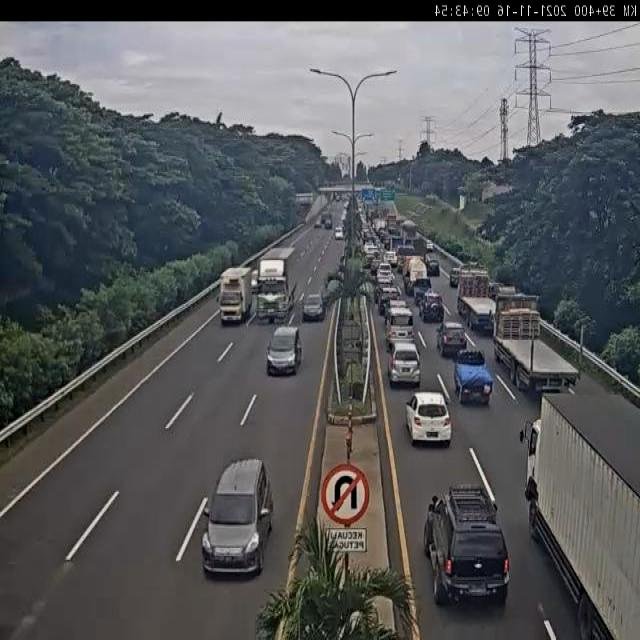Car: (423, 484, 510, 607), (201, 458, 275, 580), (404, 390, 452, 446), (453, 349, 494, 406), (266, 325, 302, 376), (387, 342, 422, 388), (384, 304, 414, 344), (435, 321, 467, 358), (420, 290, 444, 322), (302, 292, 326, 322), (377, 286, 400, 316), (426, 254, 440, 276), (315, 218, 322, 228)
Truck: (526, 389, 640, 640), (494, 294, 578, 392), (256, 246, 296, 324), (456, 267, 500, 332), (219, 268, 252, 322)
